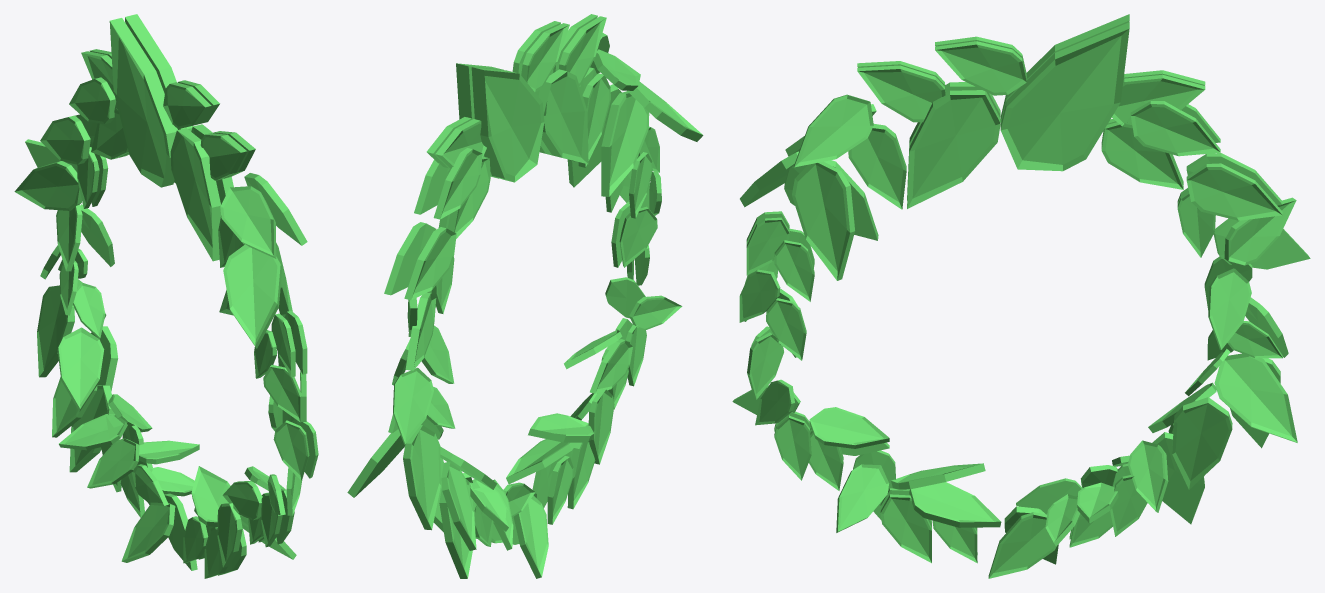
The model's file is flower-5.fbx.
3 views of the same model, side by side, from view 1: azimuth 30°, elevation 25°; view 2: azimuth 150°, elevation 25°; view 3: azimuth 270°, elevation 25° (orthographic). The views are drawn at different scales.
Visible parts, largest first — view 1: 큐브; view 2: 큐브; view 3: 큐브.
Part boxes in pixels (bbox=[...]): 큐브: bbox=[14, 14, 318, 578]; 큐브: bbox=[347, 14, 703, 578]; 큐브: bbox=[732, 14, 1310, 578].
Bounding box in the file's own units: 547 × 2449 × 2294.
